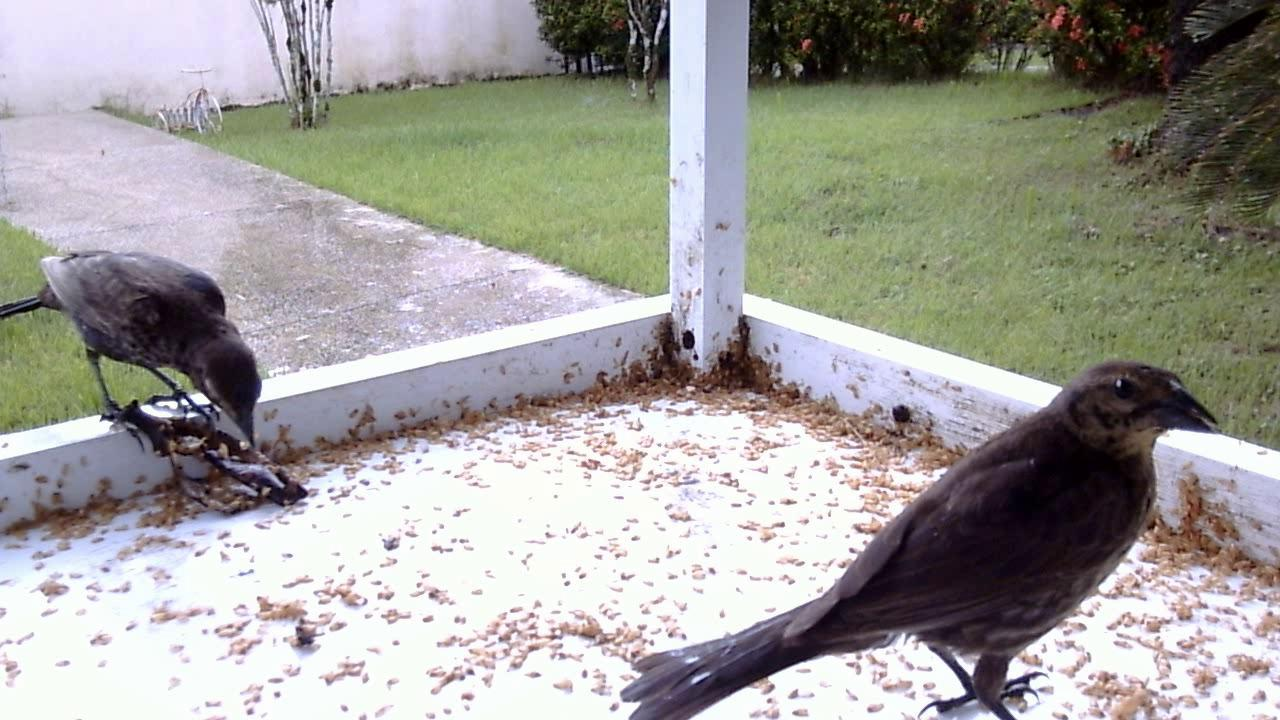chupim: (616, 341, 1232, 720), (1, 237, 313, 515)
